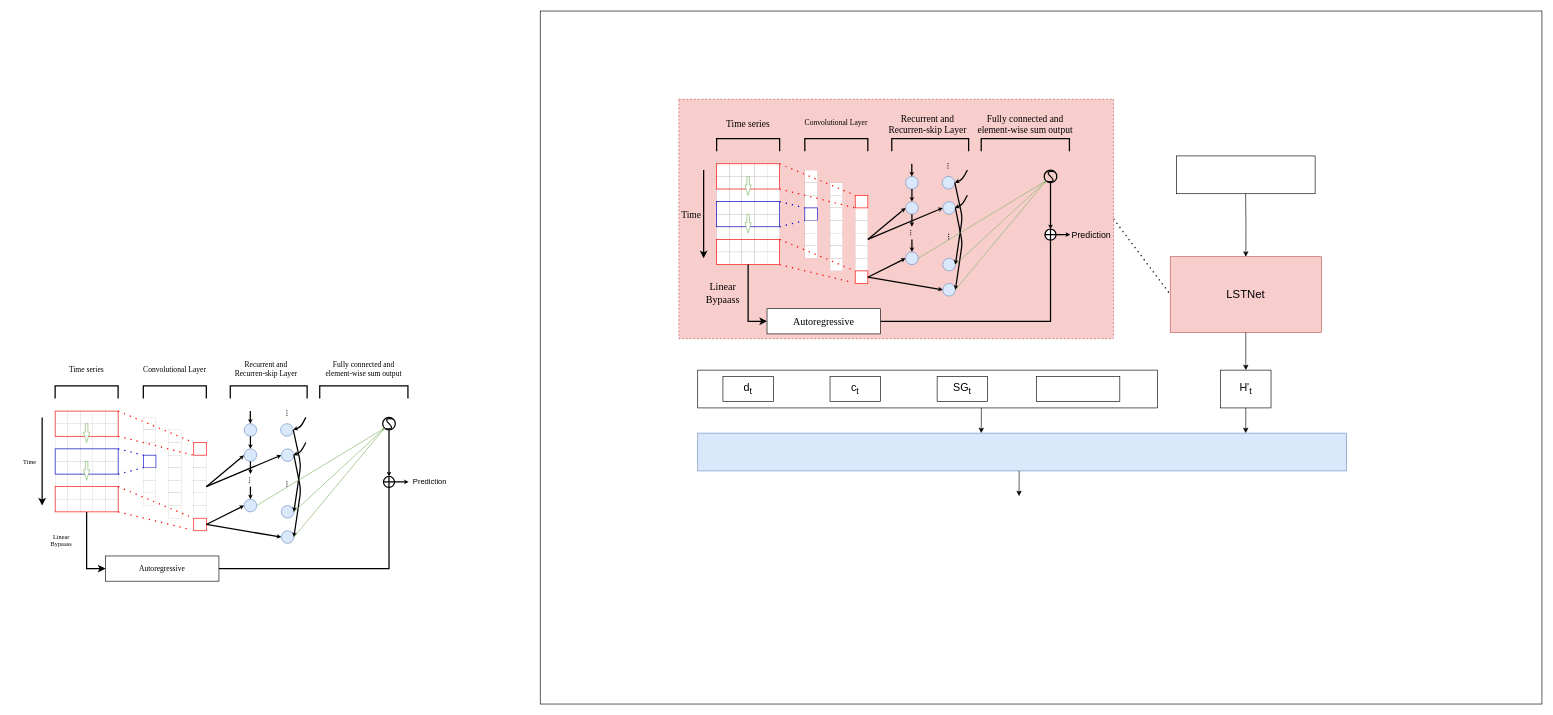
Some shapes in this 1553 by 715 pixel diagram are drawn without their labels. The shapes that lost their labels are listed below. From the top down, each one's centre as x and y in pixels, then its label:
the point at 1245,174: H(t)
the point at 1078,389: {rm t }m∈M'
the point at 1022,451: MLP
